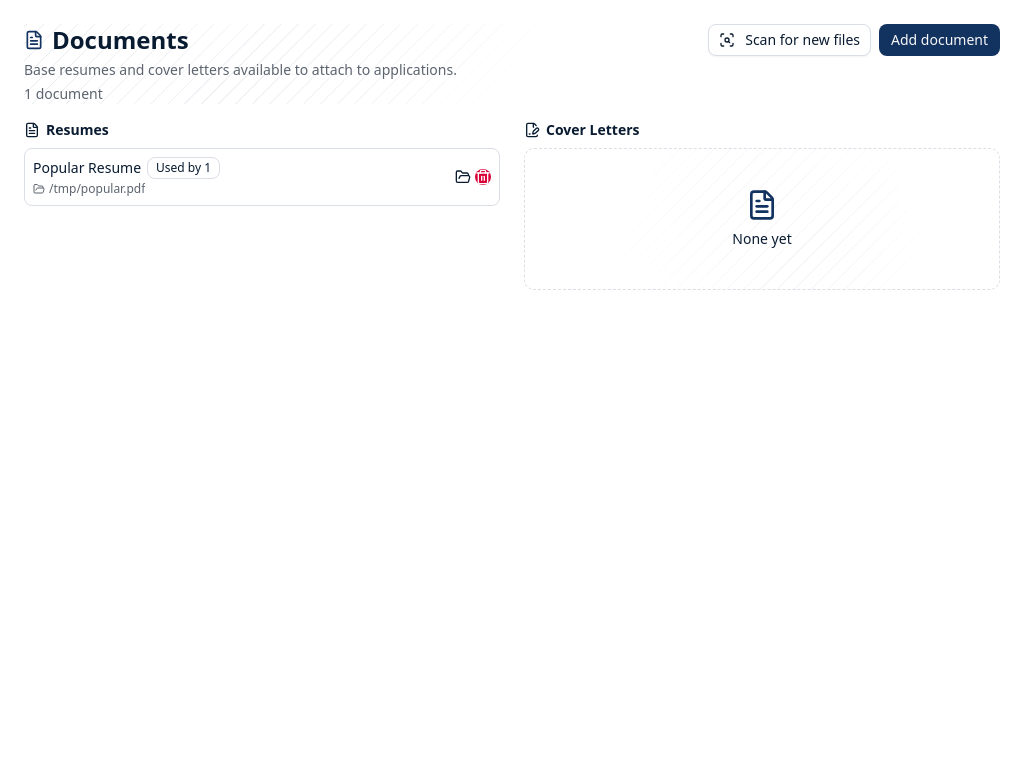
page smoke tests › Documents' used-by-N badge is a focusable button exposing which applications use it
Expected: the button "Popular Resume" is shown, [33,158,141,178]
Click the button "Used by 1" at (184, 168), box [147,157,220,179]
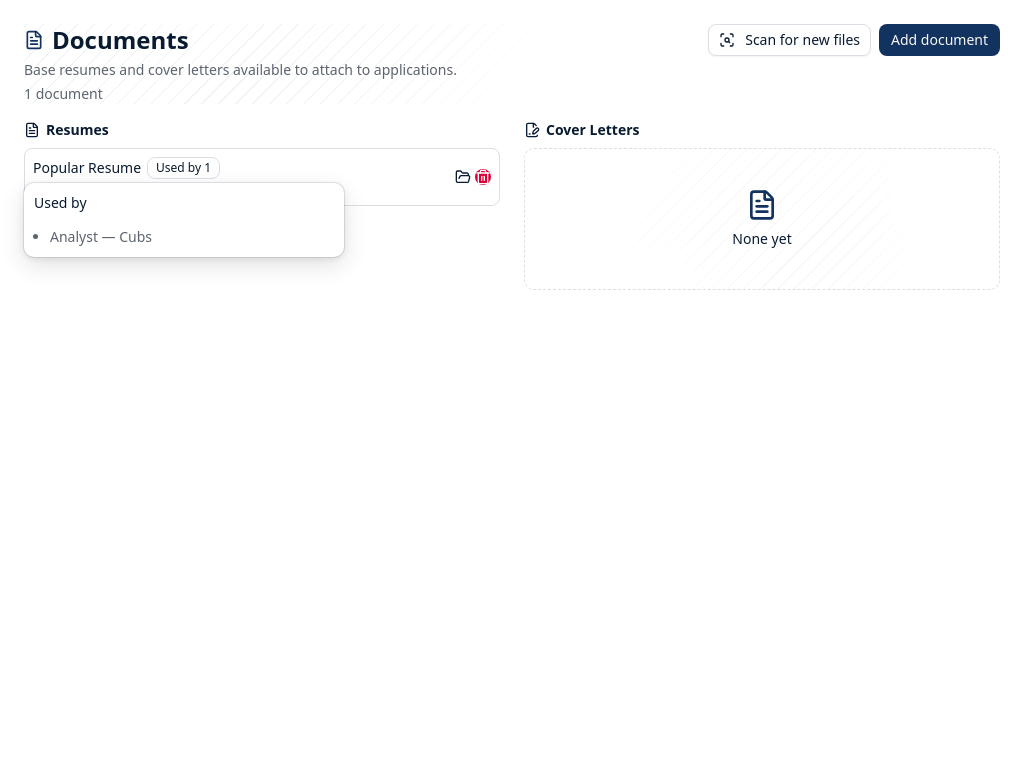
Result: the list item "Analyst — Cubs" is shown at [50,227,152,246]
